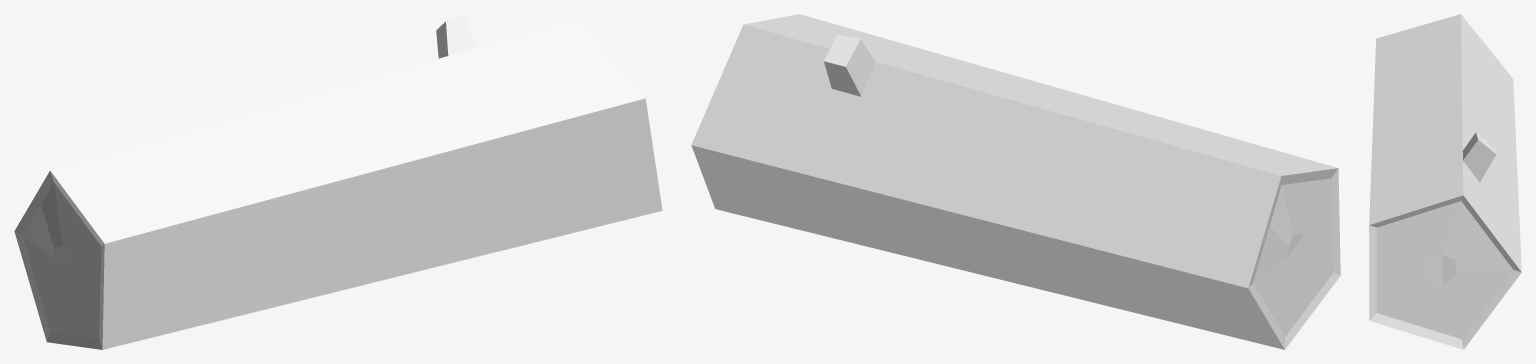
File: tree.log.itslog.glb
The picture shows the model from 3 angles, left to right: view 1: azimuth 30°, elevation 25°; view 2: azimuth 150°, elevation 25°; view 3: azimuth 270°, elevation 25°; orthographic projection. The views are drawn at different scales.
Visible parts, largest first — view 1: its.log; view 2: its.log; view 3: its.log.
Boxes of the visible parts, <box> form: its.log: <box>14,14,662,349</box>; its.log: <box>691,14,1340,349</box>; its.log: <box>1369,14,1521,349</box>.
Size of the model in its own units: 1.07 by 0.3927 by 0.3303.
Materials: 1 (1 with a texture image).
